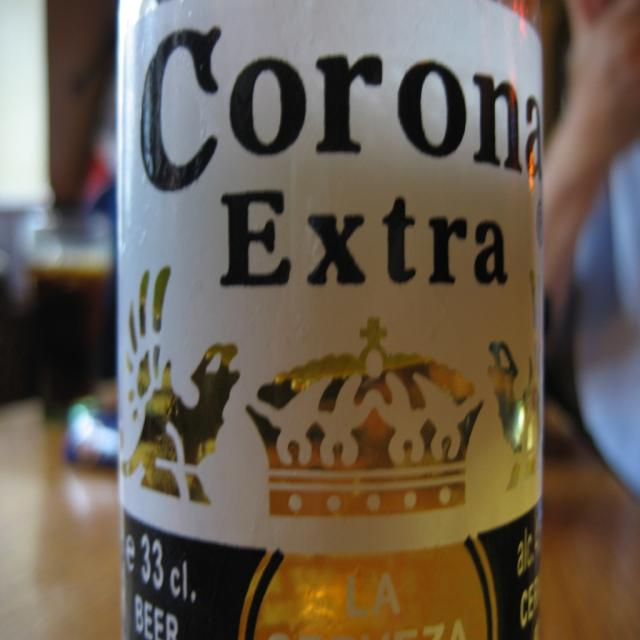corona: (119, 2, 547, 640)
